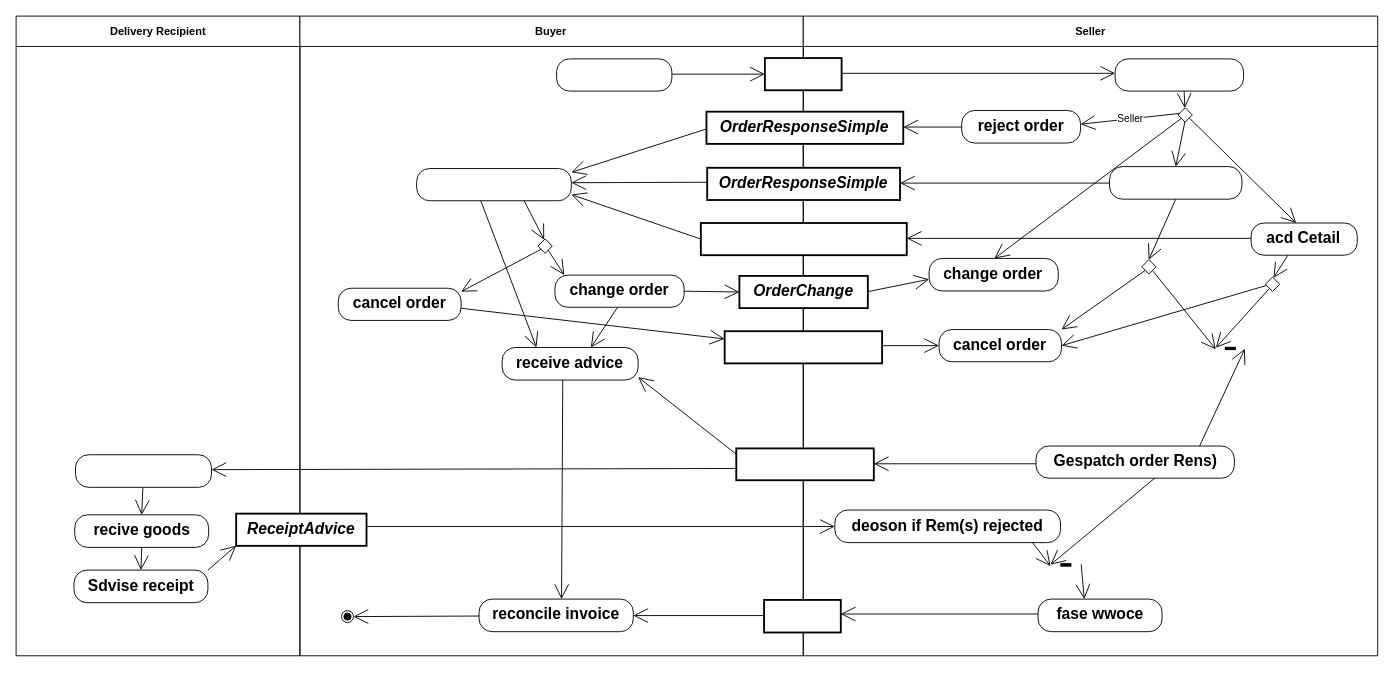
Image size: 1394x673. Some labels were removed from this diagram. The centre of each missing label's shape, as x and y in pixels:
accept order: point (1175, 182)
DespatchAdvice: point (804, 464)
Invoice: point (802, 616)
Order: point (803, 74)
OrderCancellation: point (803, 347)
OrderResponse (detailed): point (803, 239)
place order: point (614, 74)
receive order: point (1179, 74)
receive response: point (493, 184)
recerve dOvVCE: point (143, 470)
